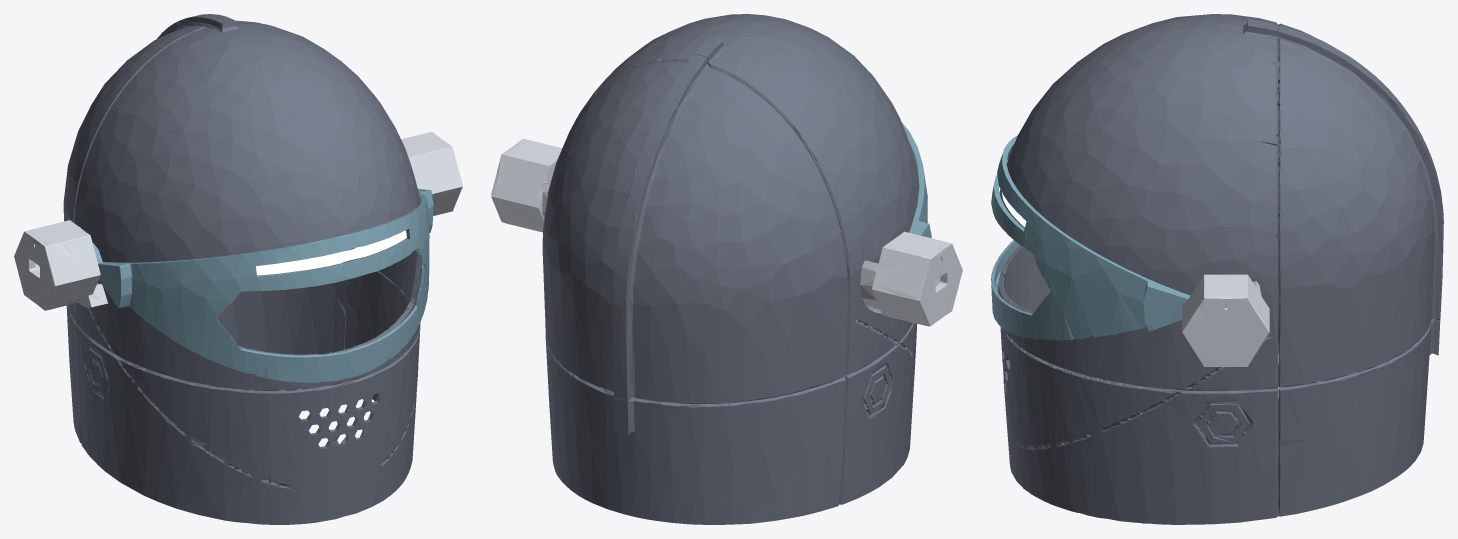
File: capacete.glb
3 views of the same model, side by side, from view 1: azimuth 30°, elevation 25°; view 2: azimuth 150°, elevation 25°; view 3: azimuth 270°, elevation 25° (orthographic). The views are drawn at different scales.
Visible parts, largest first — view 1: Frente de cima (janela e testa), Queixo (grade da boca), Viseira, Nuca, Topo de trás (crista), Casulo esquerdo (placa e USB-C), Casulo direito (servo), Tampa do casulo esquerdo (USB-C), Barra de luz da testa; view 2: Topo de trás (crista), Nuca, Frente de cima (janela e testa), Queixo (grade da boca), Casulo esquerdo (placa e USB-C), Casulo direito (servo), Tampa do casulo esquerdo (USB-C), Viseira; view 3: Frente de cima (janela e testa), Topo de trás (crista), Queixo (grade da boca), Nuca, Viseira, Tampa do casulo direito, Casulo direito (servo).
Part boxes in pixels (<box>): Frente de cima (janela e testa): <box>74,15,422,390</box>; Queixo (grade da boca): <box>75,271,420,524</box>; Viseira: <box>92,188,433,382</box>; Nuca: <box>66,280,347,442</box>; Topo de trás (crista): <box>63,14,250,319</box>; Casulo esquerdo (placa e USB-C): <box>29,220,107,309</box>; Casulo direito (servo): <box>401,133,459,215</box>; Tampa do casulo esquerdo (USB-C): <box>14,230,58,310</box>; Barra de luz da testa: <box>256,230,406,275</box>; Topo de trás (crista): <box>542,54,847,403</box>; Nuca: <box>545,336,845,524</box>; Frente de cima (janela e testa): <box>576,14,918,374</box>; Queixo (grade da boca): <box>838,323,917,504</box>; Casulo esquerdo (placa e USB-C): <box>860,231,947,325</box>; Casulo direito (servo): <box>494,139,561,232</box>; Tampa do casulo esquerdo (USB-C): <box>915,242,962,326</box>; Viseira: <box>902,123,931,238</box>; Frente de cima (janela e testa): <box>998,14,1278,391</box>; Topo de trás (crista): <box>1278,23,1443,386</box>; Queixo (grade da boca): <box>1000,276,1278,524</box>; Nuca: <box>1278,319,1440,516</box>; Viseira: <box>991,135,1190,340</box>; Tampa do casulo direito: <box>1182,296,1269,366</box>; Casulo direito (servo): <box>1182,274,1269,330</box>.
Bounding box in the file's own units: 0.2772 × 0.2694 × 0.2503.
